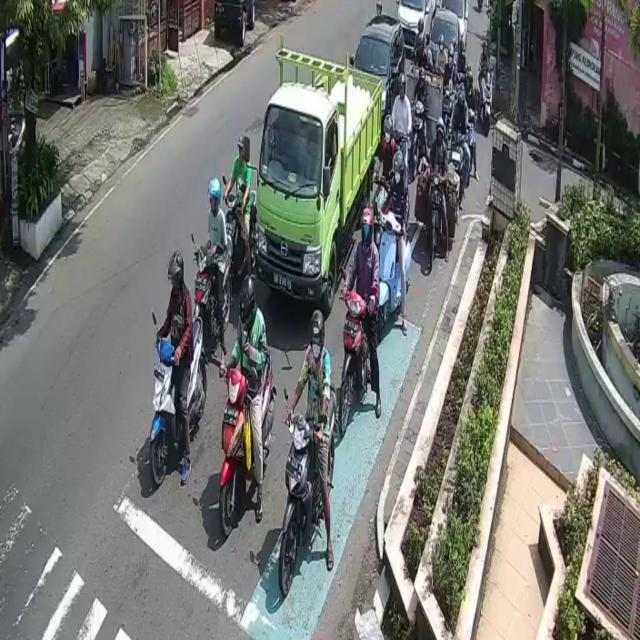car: (353, 16, 406, 124), (426, 11, 461, 98), (398, 0, 436, 55)
motorbike: (279, 383, 339, 596), (148, 313, 208, 488), (221, 349, 276, 537), (337, 264, 376, 440), (372, 209, 413, 339), (190, 234, 233, 344), (222, 176, 256, 277), (422, 169, 450, 271), (410, 96, 430, 177), (451, 122, 468, 194), (476, 72, 494, 137)
truck: (255, 36, 383, 318)
